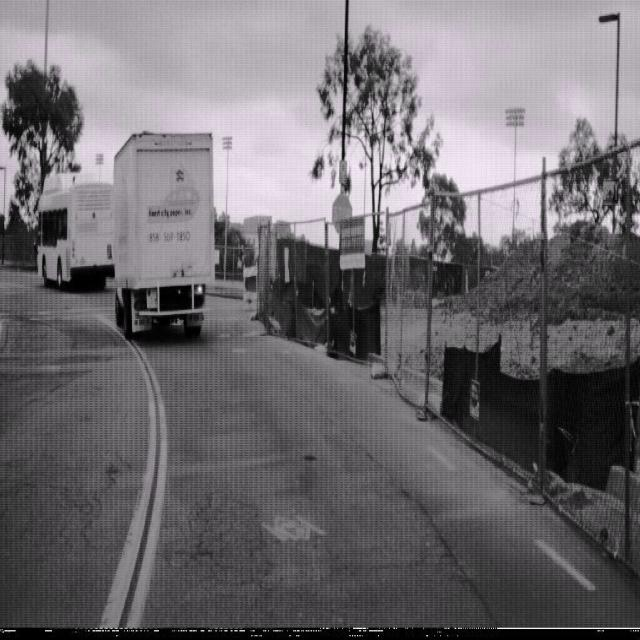stop: (331, 192, 353, 236)
